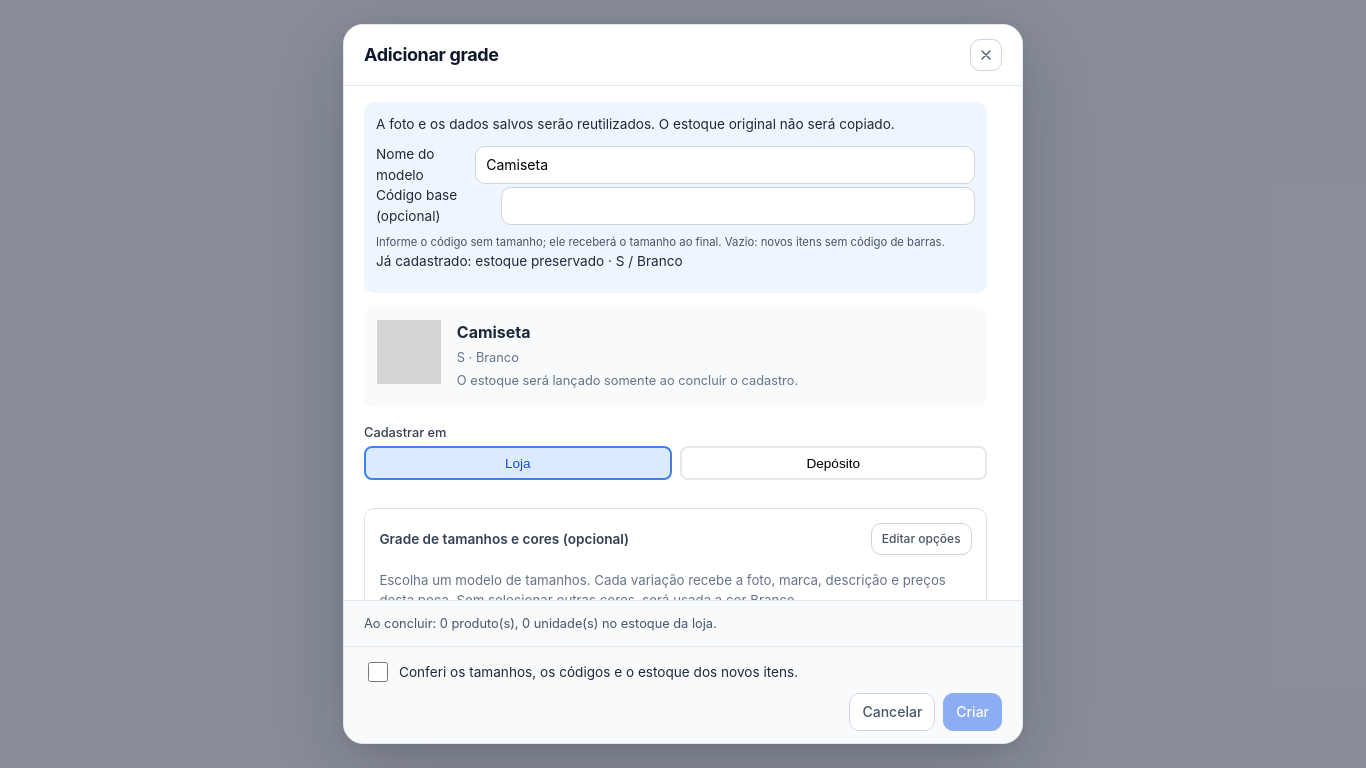
Test: supports saved/hidden presets and colors with the same option editor
Click the button "Editar opções" at [921, 539], box [871,523,972,555]
(page scrolled)
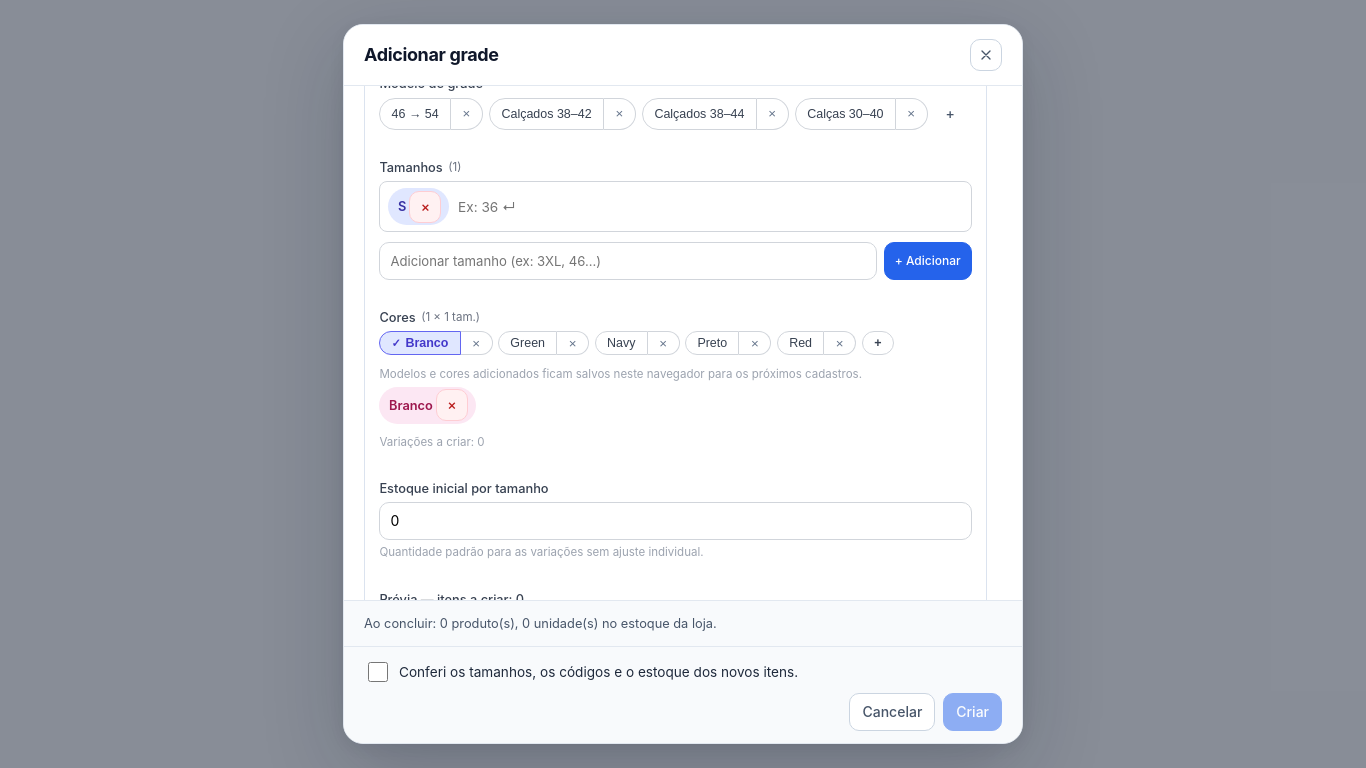
Result: the button named "Remover cor Preto" is shown at [739,331,771,355]
